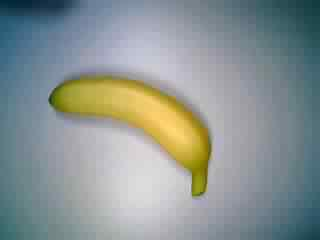banana: (44, 68, 225, 201)
